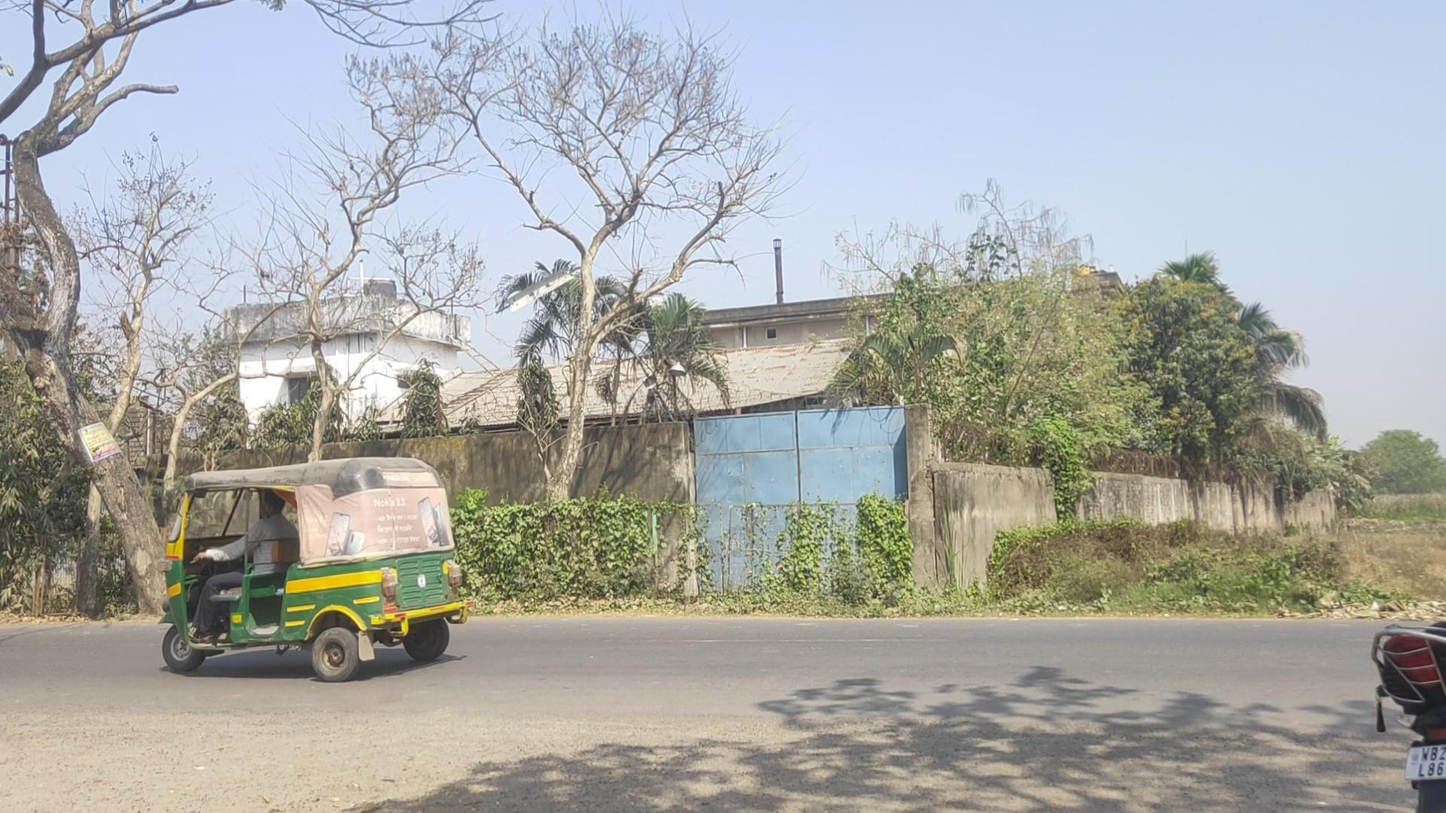Auto: (157, 455, 474, 683)
